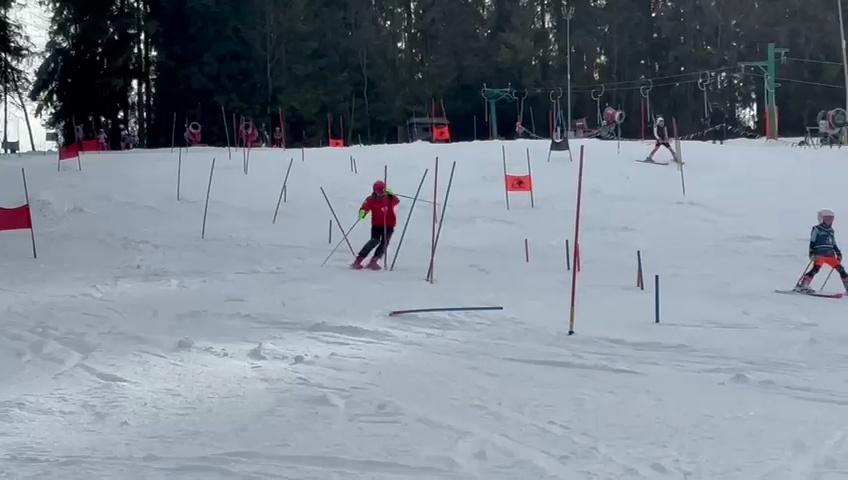gate: (557, 133, 596, 359), (382, 164, 428, 280), (371, 292, 510, 327), (429, 151, 462, 290), (15, 162, 47, 267), (197, 157, 221, 243), (266, 157, 295, 219), (169, 134, 189, 211), (521, 145, 541, 213), (498, 137, 515, 215), (237, 120, 255, 179), (650, 272, 666, 325), (634, 241, 646, 298), (522, 236, 532, 266), (326, 217, 335, 249), (350, 156, 360, 176), (346, 154, 355, 173)
